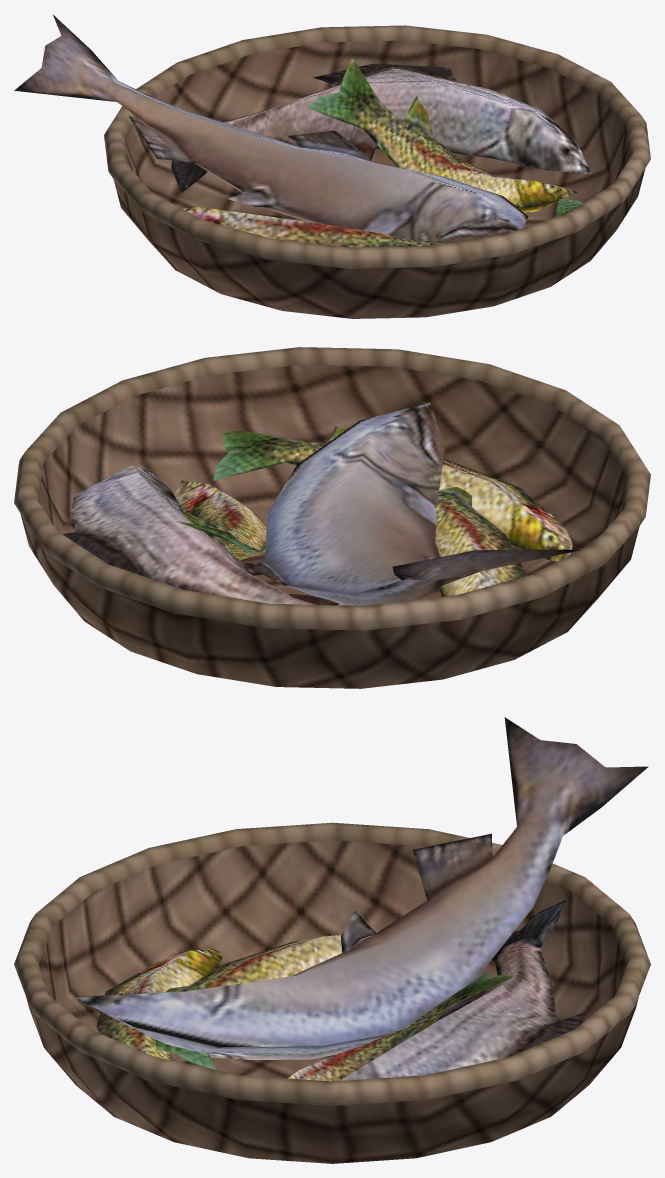
File: village_wicker_plate_with_fish.fbx
3 renders of one model, top to bottom at view 1: azimuth 30°, elevation 25°; view 2: azimuth 150°, elevation 25°; view 3: azimuth 270°, elevation 25°, orthographic. The views are drawn at different scales.
Parts seen in each view (by area): view 1: village_wicker_plate_with_fish; view 2: village_wicker_plate_with_fish; view 3: village_wicker_plate_with_fish.
Boxes of the visible parts, x1,y1,x2,y2 form: village_wicker_plate_with_fish: (14, 15, 650, 318); village_wicker_plate_with_fish: (14, 347, 650, 688); village_wicker_plate_with_fish: (14, 717, 650, 1163).
Size of the model in its own units: 75.47 by 23.28 by 68.19.
